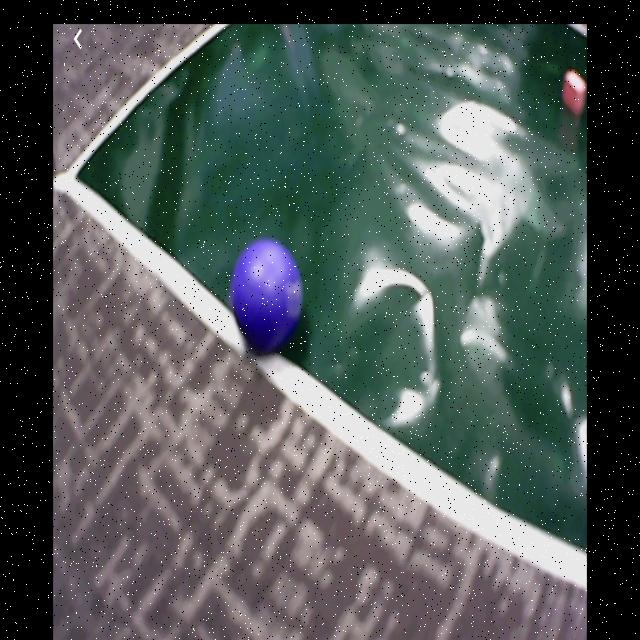ball: (232, 241, 304, 354)
